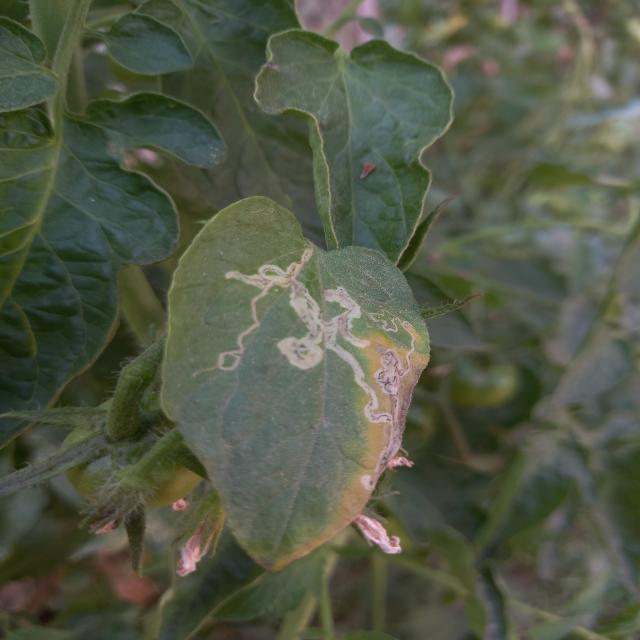Tuta absoluta: (253, 261, 434, 427), (184, 219, 314, 380), (367, 319, 428, 399), (369, 312, 399, 332)
